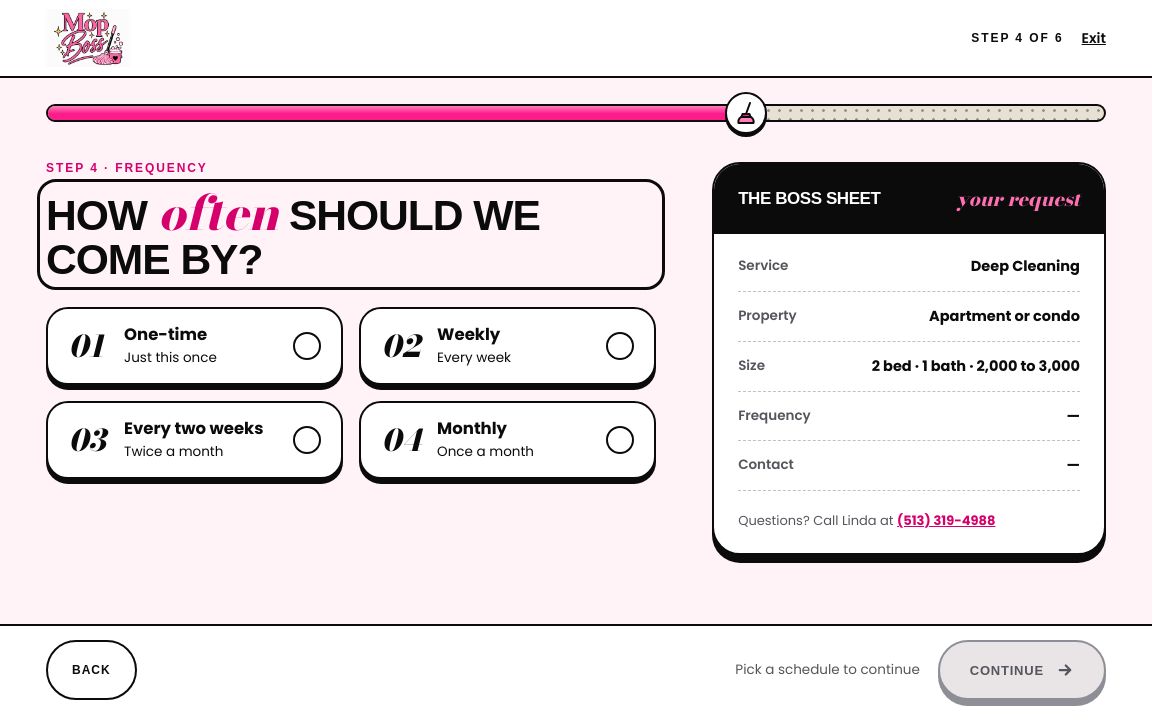
Test: QuoteFlow › validates the contact step and shows a field error for a bad email
Earlier steps of the test are not shown.
Click the button "03 Every two weeks Twice a month" at (195, 440), box [46,401,343,479]
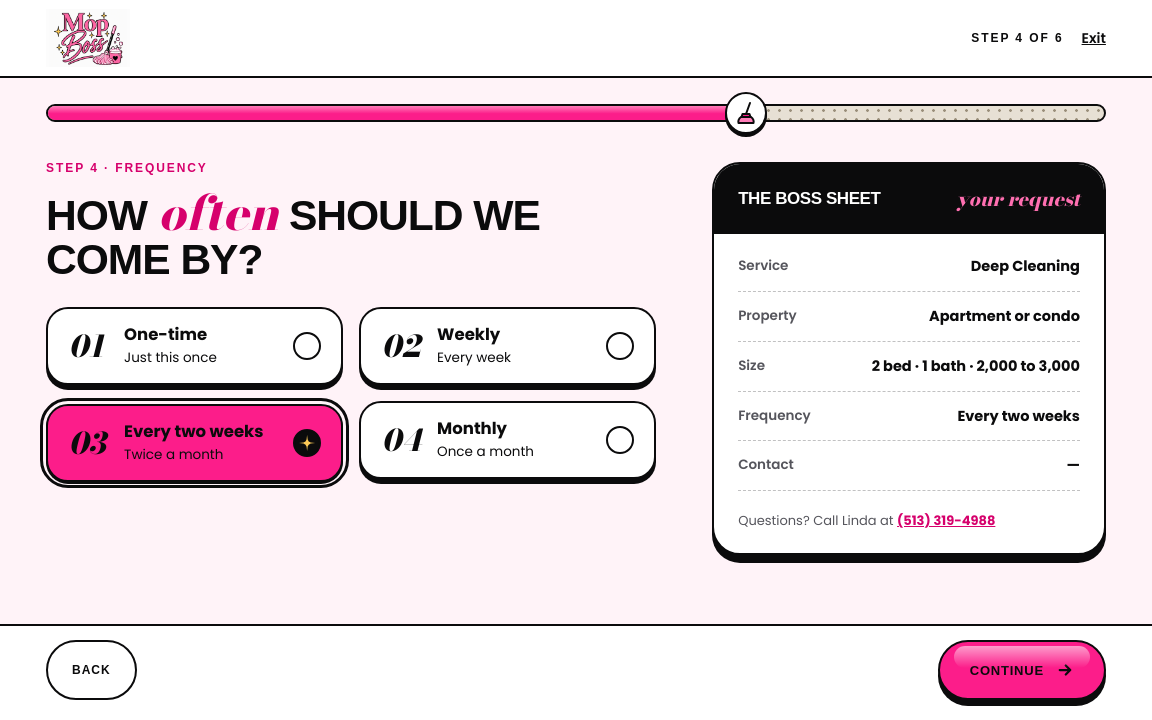
Click the button "Continue" at (1022, 670), box [938,640,1106,700]
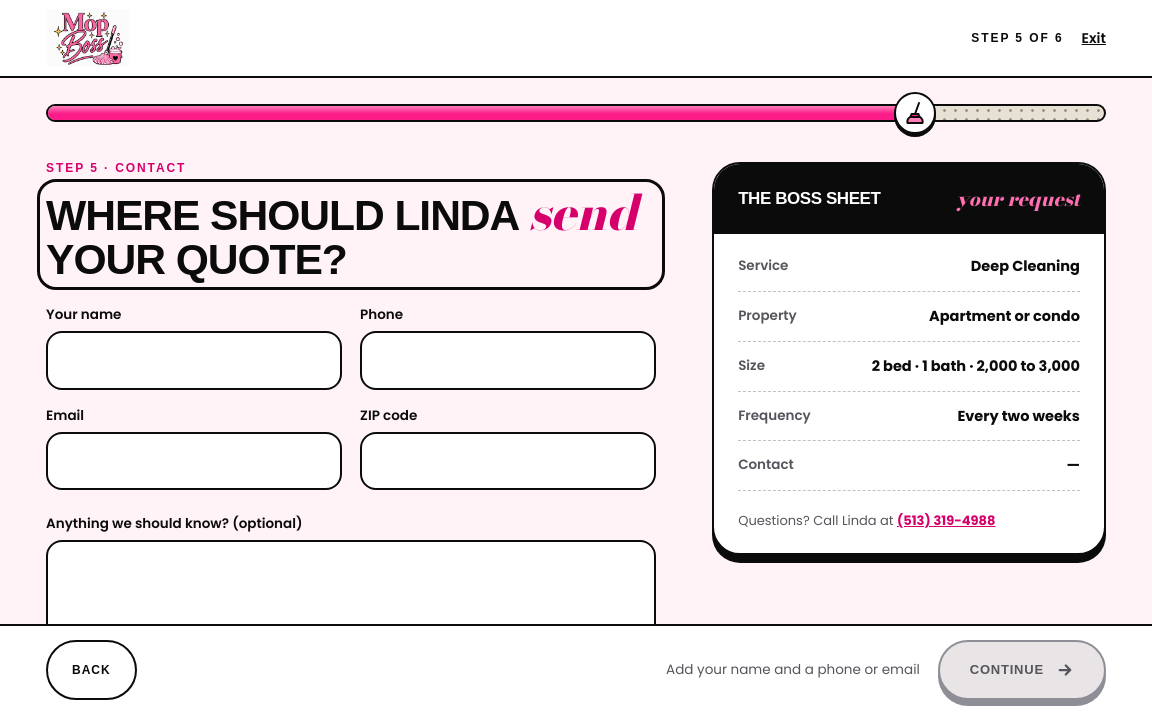
Now the heading reads "Where should Linda send your quote?", box [46,188,656,281]
Type "Dana Smith" into the field labelled "Your name" at (194, 360), box [46,331,342,390]
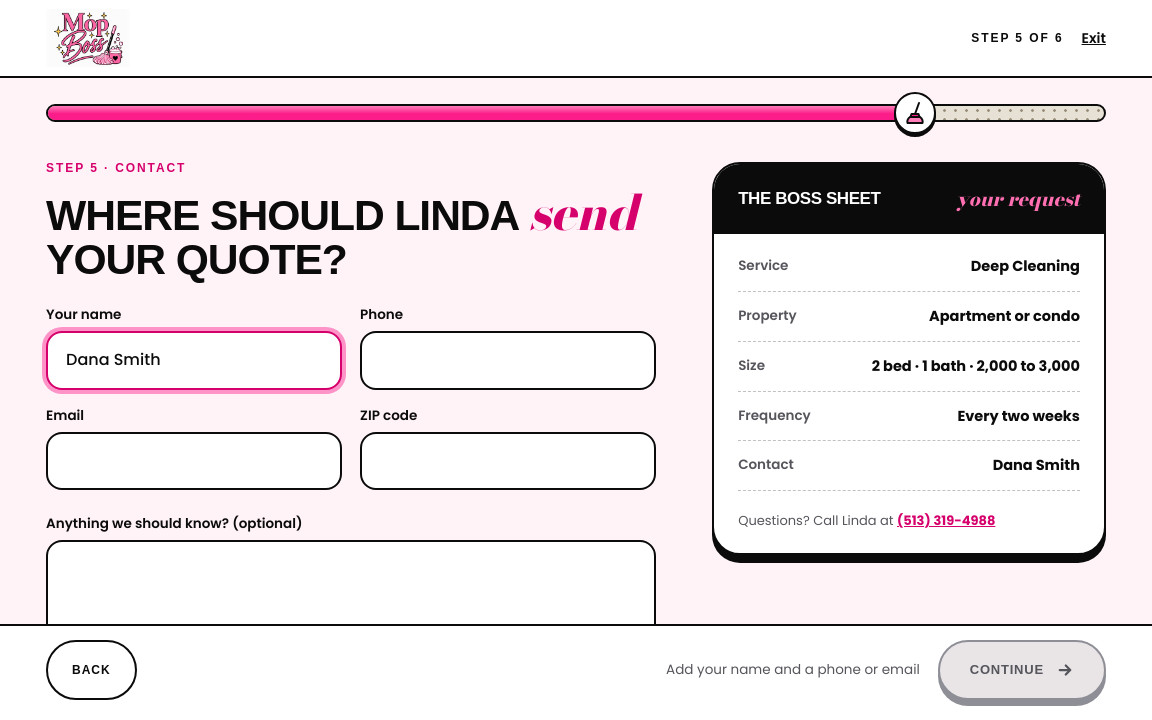
Type "dana@" into the field labelled "Email" at (194, 461), box [46,432,342,490]
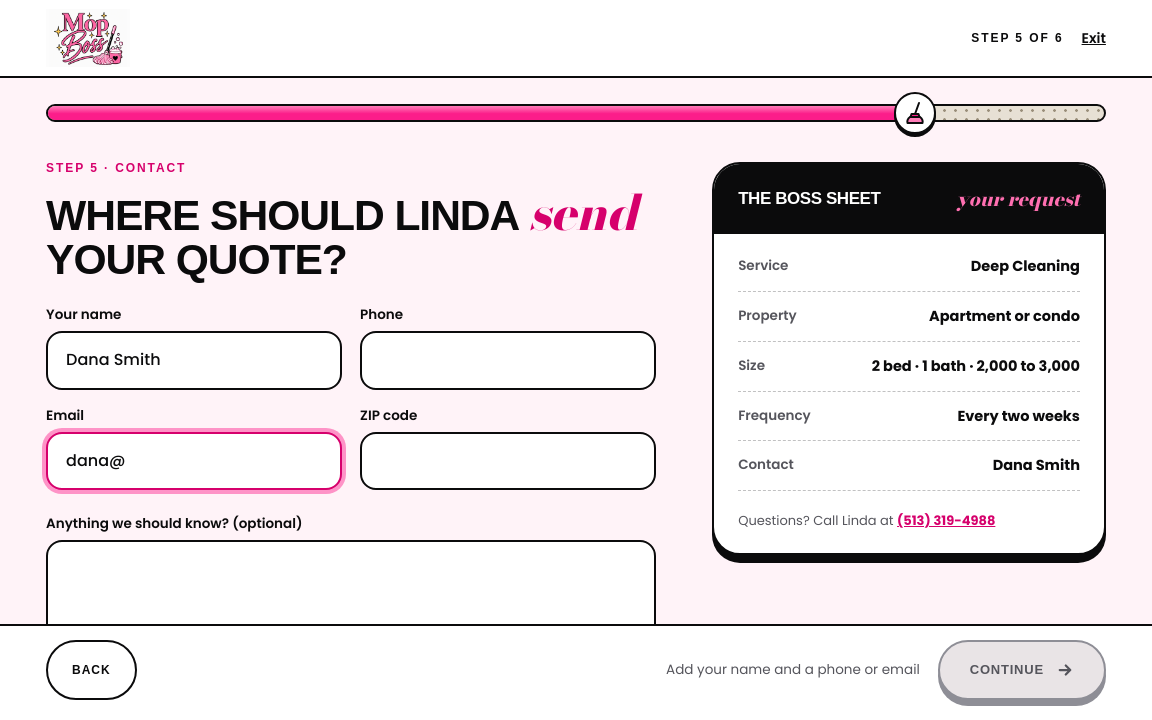
Press Tab
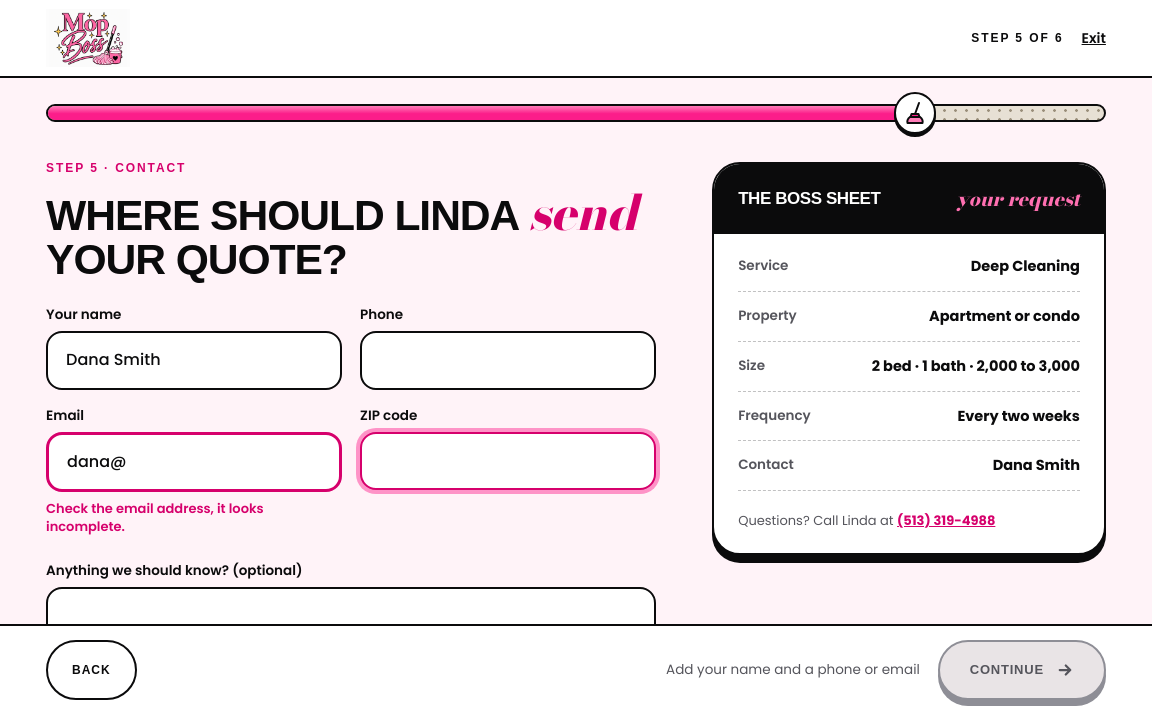
Now the field labelled "Email" is marked as invalid
Now the button "Continue" is disabled, box [938,640,1106,700]
Type "example.com" into the field labelled "Email" at (194, 462), box [46,432,342,492]
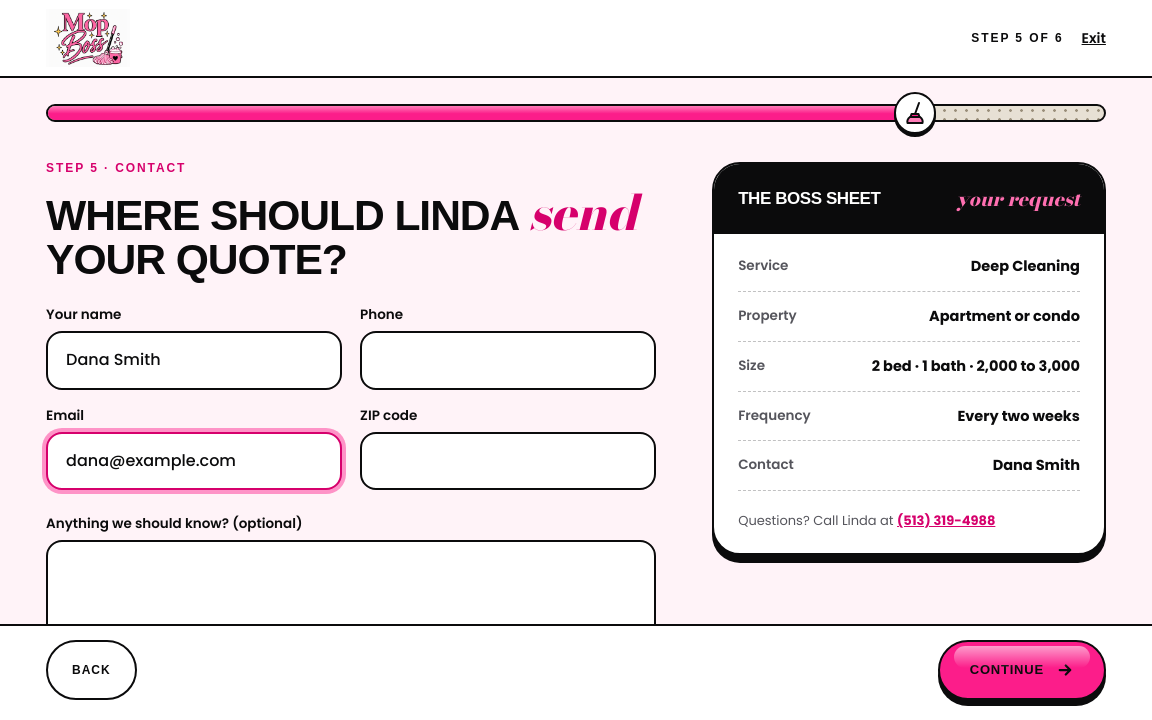
Now the button "Continue" is enabled, box [938,640,1106,700]
